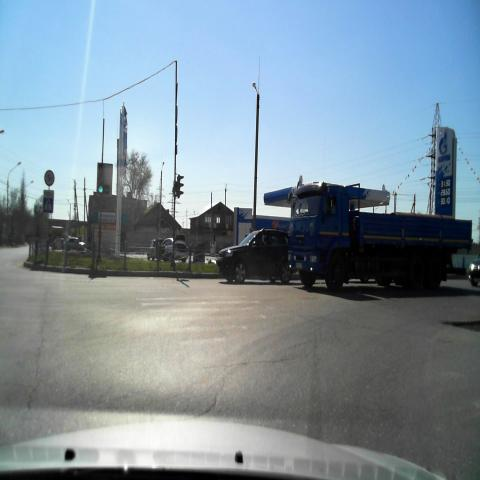3_11: (44, 169, 56, 186)
